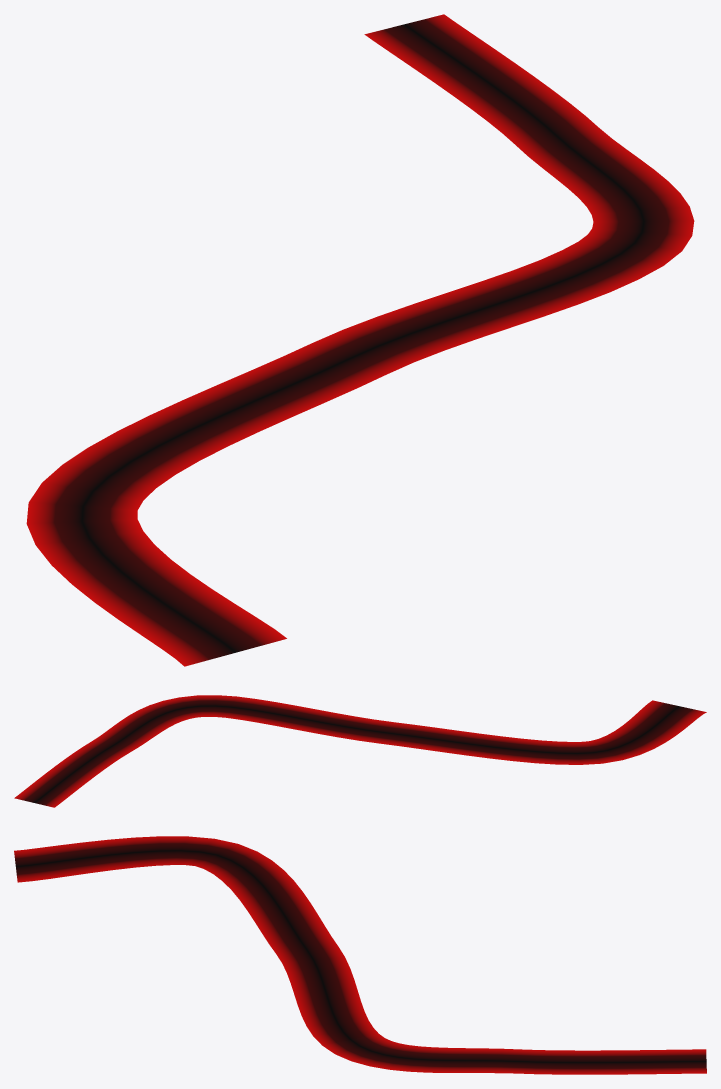
The model's file is Waterfall_Entrance_Runoff.fbx.
3 renders of one model, top to bottom at view 1: azimuth 30°, elevation 25°; view 2: azimuth 150°, elevation 25°; view 3: azimuth 270°, elevation 25°, orthographic. The views are drawn at different scales.
Parts seen in each view (by area): view 1: Waterfall_Entrance_Runoff; view 2: Waterfall_Entrance_Runoff; view 3: Waterfall_Entrance_Runoff.
Boxes of the visible parts, bbox=[...] form: Waterfall_Entrance_Runoff: bbox=[26, 14, 694, 666]; Waterfall_Entrance_Runoff: bbox=[14, 695, 706, 807]; Waterfall_Entrance_Runoff: bbox=[14, 836, 706, 1074].
Size of the model in its own units: 7.93 by 0.355 by 9.2.
